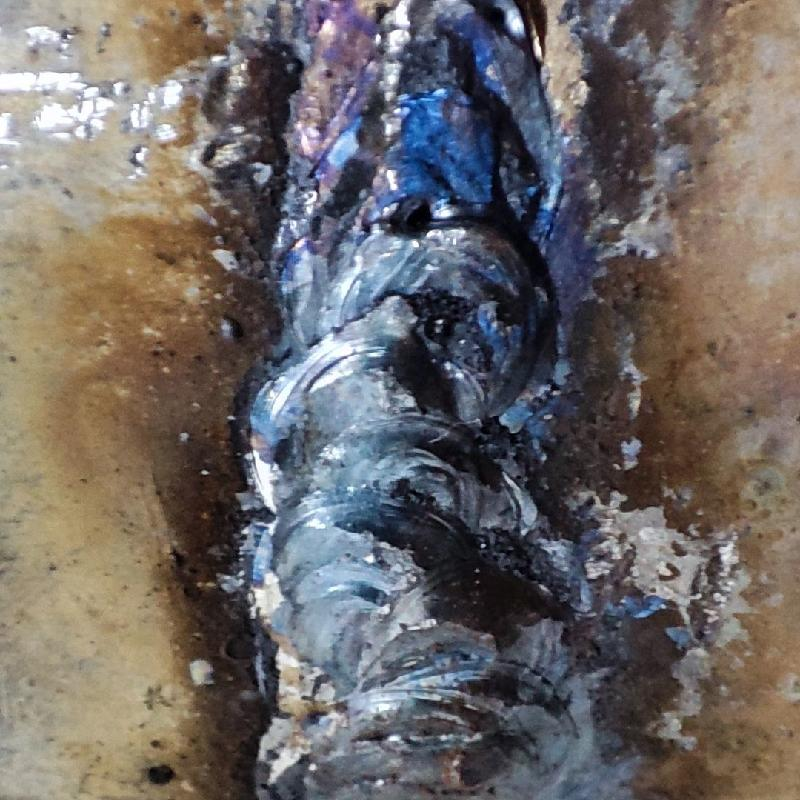Surface_pores: (380, 175, 463, 254), (408, 287, 478, 366)
